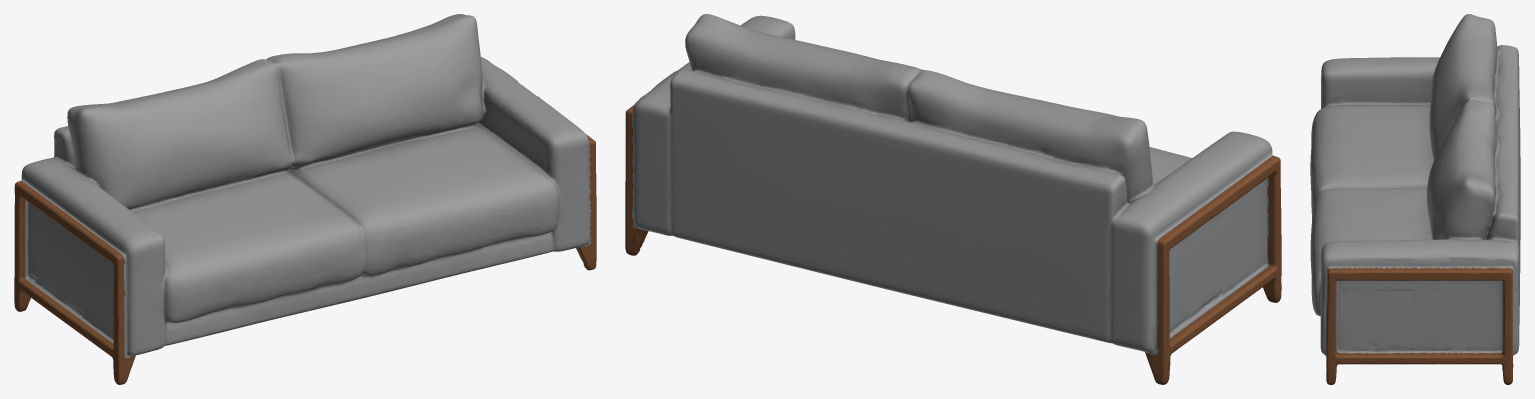
Rendered from roma-218.glb.
The picture shows the model from 3 angles, left to right: view 1: azimuth 30°, elevation 25°; view 2: azimuth 150°, elevation 25°; view 3: azimuth 270°, elevation 25°; orthographic projection. The views are drawn at different scales.
Parts seen in each view (by area): view 1: Sofa; view 2: Sofa; view 3: Sofa.
Part boxes in pixels (bbox=[...]): Sofa: bbox=[14, 14, 596, 384]; Sofa: bbox=[625, 14, 1281, 384]; Sofa: bbox=[1310, 14, 1520, 384].
Size of the model in its own units: 2.18 by 0.9 by 0.93.
